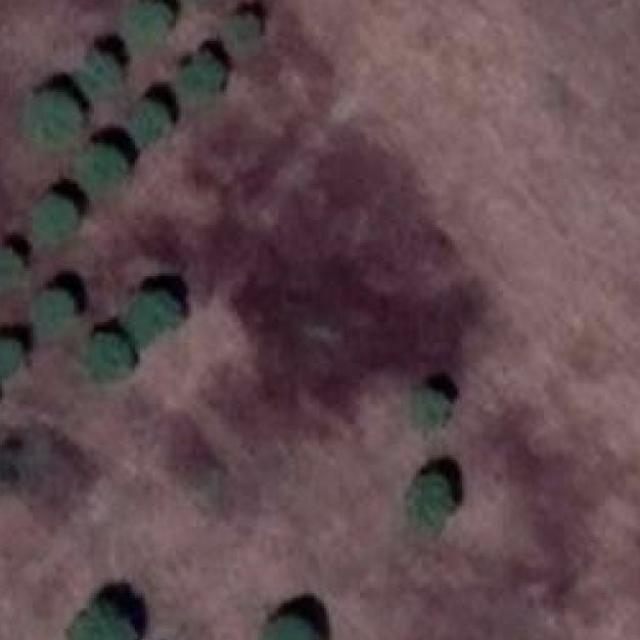Tree: (130, 292, 181, 342), (408, 476, 449, 532), (30, 92, 78, 138), (31, 198, 76, 242), (121, 3, 166, 44), (80, 146, 121, 190), (74, 610, 133, 640), (176, 60, 217, 103), (83, 336, 127, 376), (126, 100, 166, 141), (32, 292, 74, 328), (80, 54, 116, 90), (266, 615, 314, 640), (413, 394, 447, 429), (232, 12, 261, 41), (0, 340, 23, 374), (0, 248, 23, 282)
